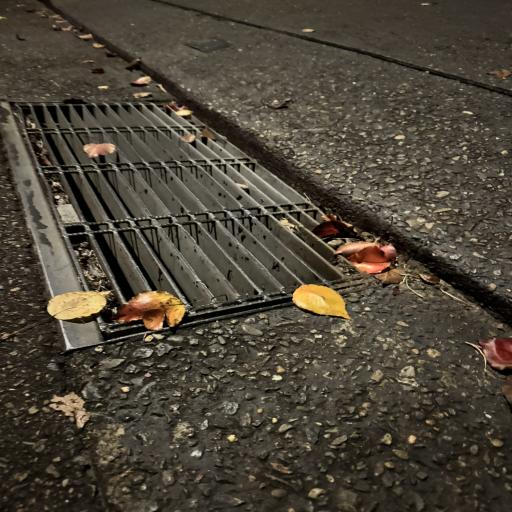debris: (112, 290, 185, 331), (334, 242, 401, 284), (292, 284, 350, 319), (48, 291, 110, 321), (479, 338, 512, 370), (313, 214, 353, 236), (83, 143, 117, 158), (170, 102, 191, 116), (132, 76, 150, 86), (182, 133, 196, 143), (134, 92, 150, 98)
gutter: (2, 102, 372, 350)
step: (48, 0, 512, 320)
